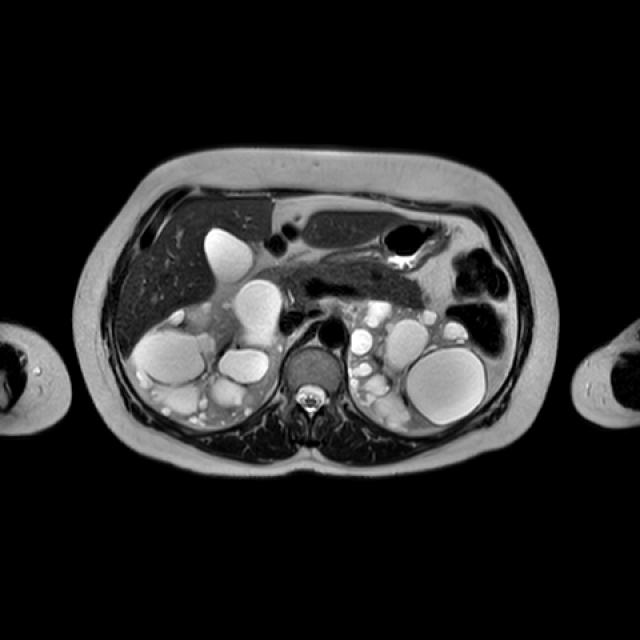sag: (127, 276, 285, 431)
sol: (348, 299, 488, 432)
